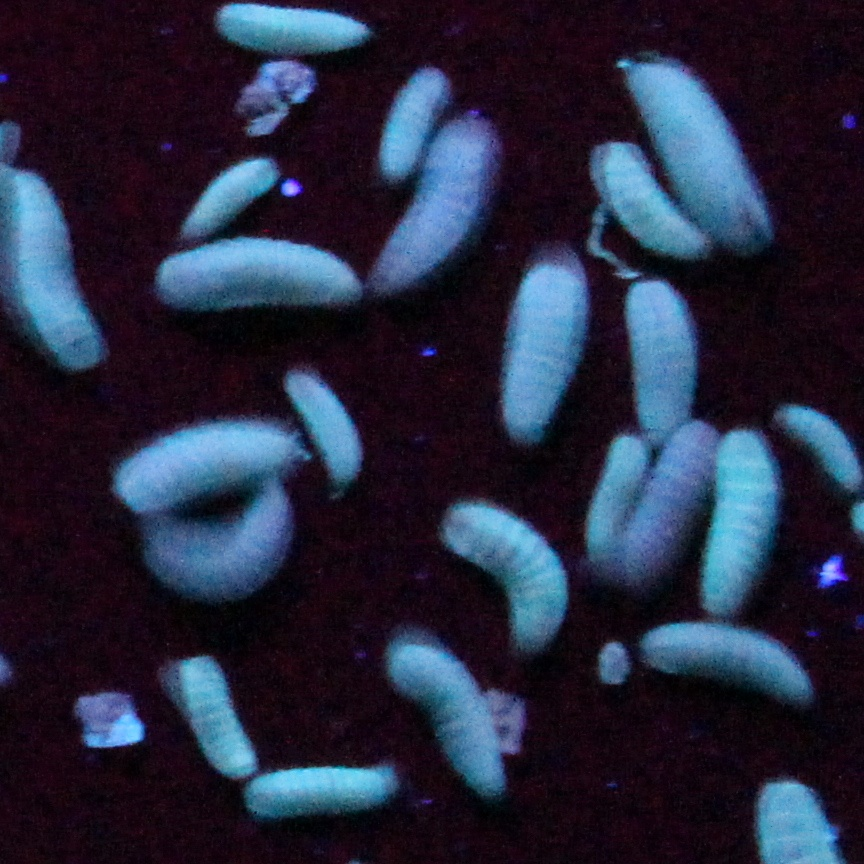larve: (626, 50, 765, 247), (373, 121, 497, 286), (434, 497, 571, 644), (381, 638, 501, 789), (581, 142, 713, 261), (628, 417, 710, 586), (634, 619, 810, 693), (516, 249, 580, 444), (163, 254, 357, 313), (175, 141, 281, 239), (102, 440, 313, 489), (630, 268, 689, 438), (719, 432, 775, 609), (172, 652, 253, 774), (115, 514, 289, 570), (374, 51, 441, 194), (285, 364, 361, 480), (249, 757, 390, 806), (600, 429, 640, 567)
